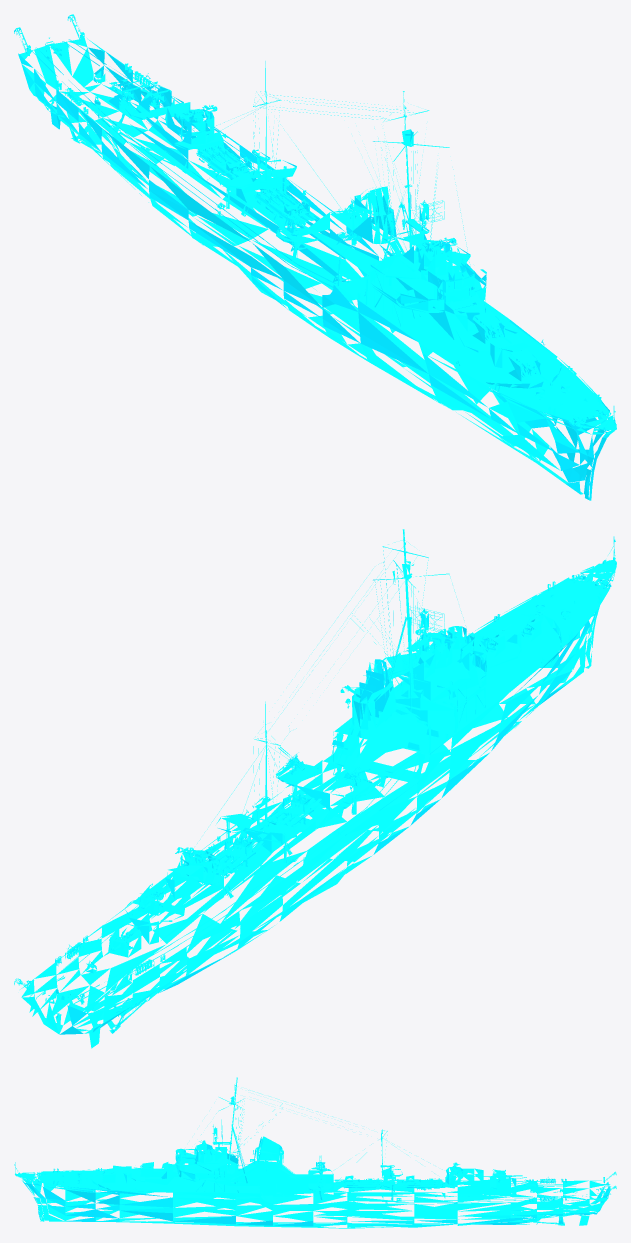
Rendered from PGSD506.glb.
3 views of the same model, one above another, from view 1: azimuth 30°, elevation 25°; view 2: azimuth 150°, elevation 25°; view 3: azimuth 270°, elevation 25° (orthographic). The views are drawn at different scales.
Parts seen in each view (by area): view 1: hull_mid, hull_bow, hull_stern, main_battery, torpedo, superstructure; view 2: hull_mid, hull_bow, hull_stern, torpedo, main_battery, superstructure; view 3: hull_mid, hull_bow, hull_stern, torpedo, main_battery, superstructure.
Part boxes in pixels (x1,y1,x2,y2): hull_mid: (101, 61, 557, 446); hull_bow: (473, 358, 616, 500); hull_stern: (14, 14, 186, 179); main_battery: (102, 76, 547, 381); torpedo: (196, 144, 320, 225); superstructure: (175, 105, 457, 263); hull_mid: (101, 529, 556, 1001); hull_bow: (474, 536, 616, 721); hull_stern: (14, 926, 186, 1048); torpedo: (204, 793, 321, 878); main_battery: (101, 608, 547, 957); superstructure: (175, 606, 457, 872); hull_mid: (113, 1077, 527, 1228); hull_bow: (14, 1162, 119, 1222); hull_stern: (510, 1171, 616, 1225); torpedo: (334, 1175, 443, 1190); main_battery: (86, 1162, 554, 1193); superstructure: (199, 1124, 459, 1179).
Bounding box in the file's own units: 0.7527 × 2.08 × 7.73.
